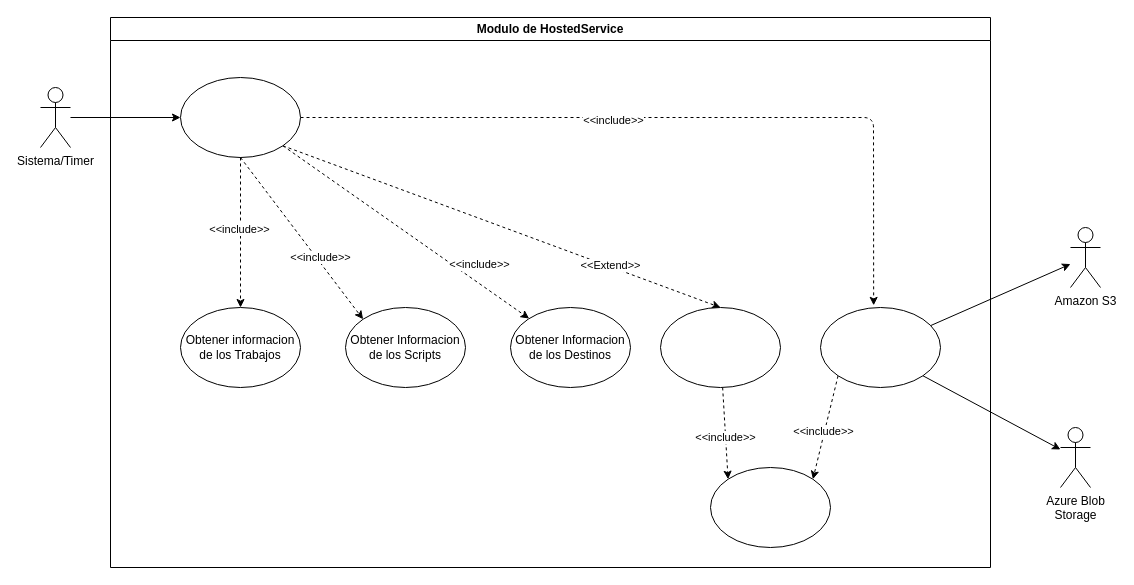
The diagram is 1134 pixels wide and 585 high, and some of its shapes have lost their labels. Each missing label, with the box of its shape:
Copiar archivo a la nube: (820, 306, 940, 388)
Ejecutar Scripts Pre-proceso y post-proceso: (660, 306, 780, 388)
Ejecutar trabajo programado: (180, 76, 300, 158)
Registrar trazas(logs): (710, 466, 830, 548)
